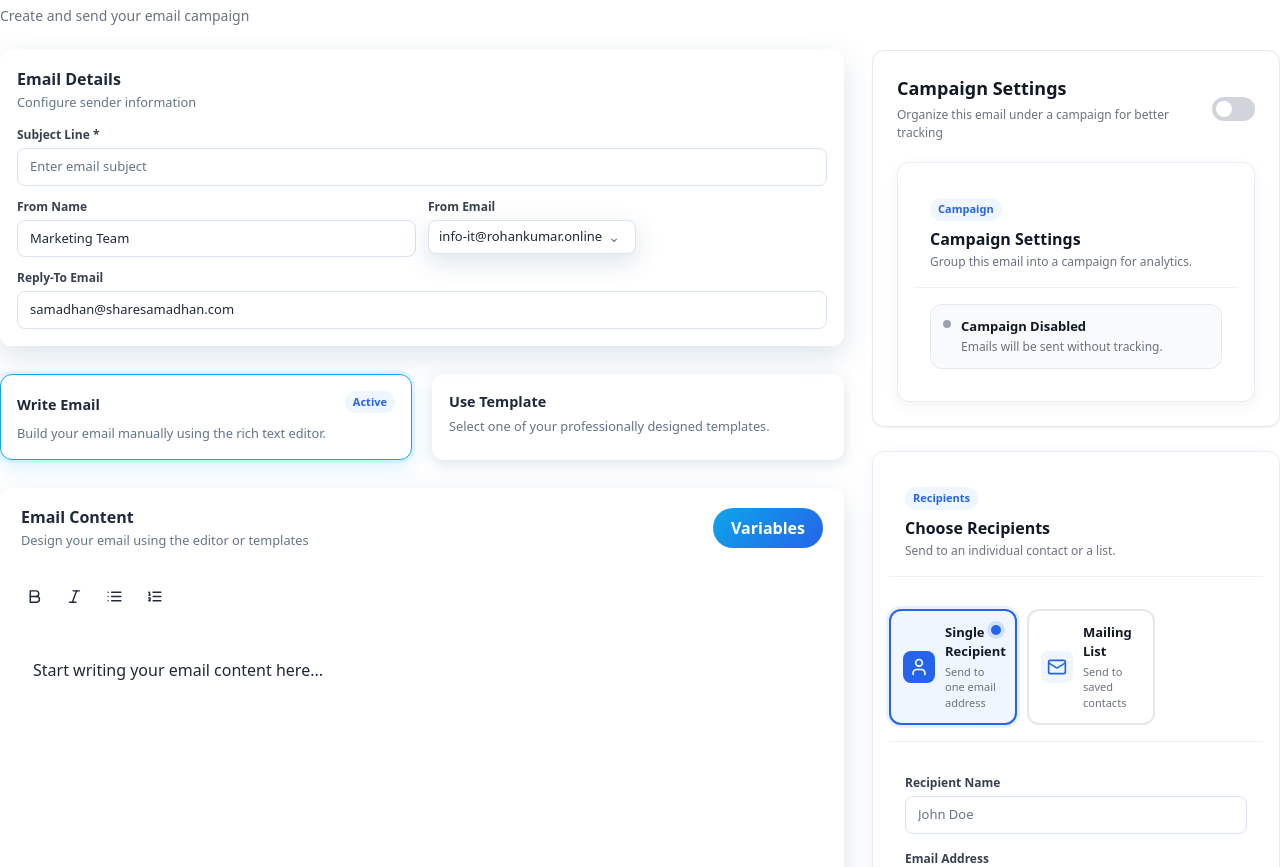
Compose page › validates subject is required on submit
# Ensure empty
Clear the field with placeholder "Enter email subject" at (422, 167), box [17,148,827,186]
(page scrolled)
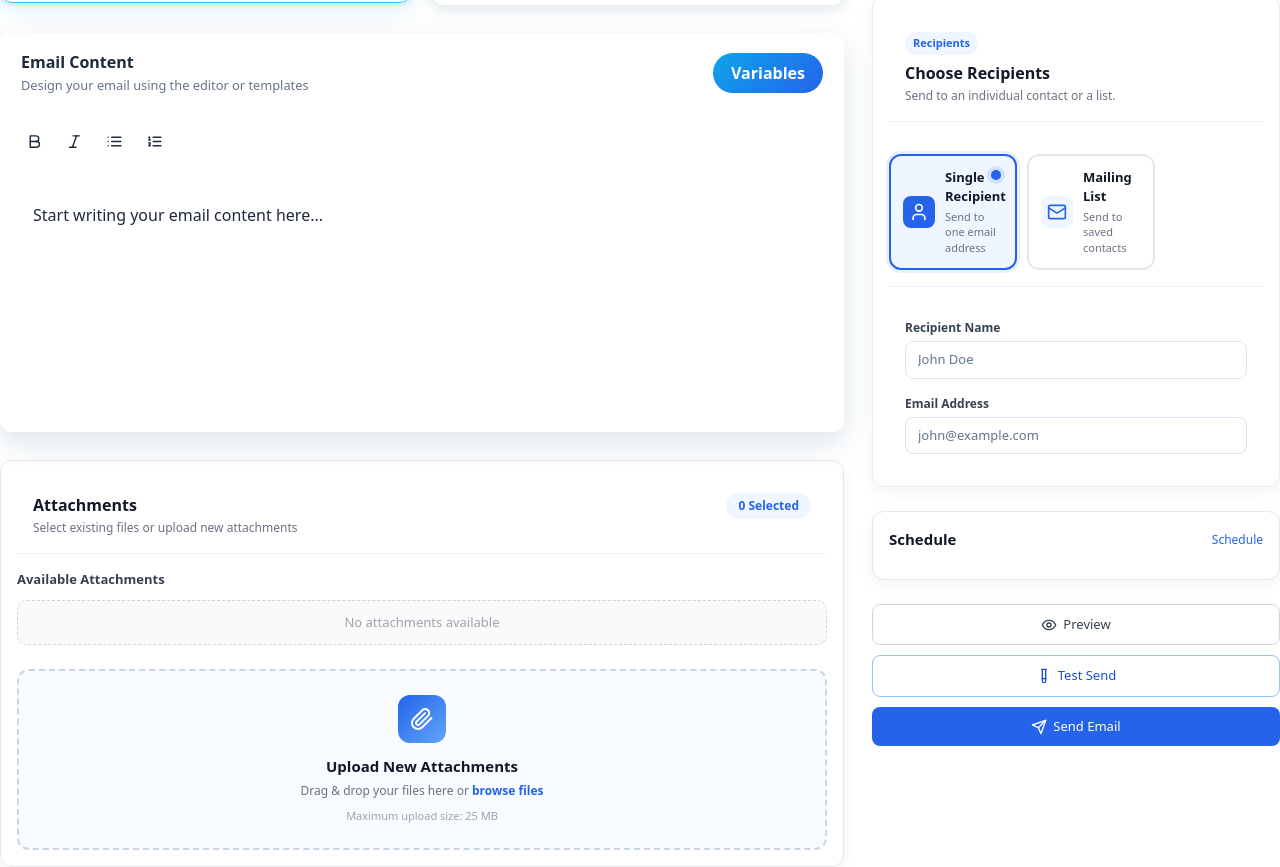
Click the button "Send Email".
click(1076, 727)  # box [872,707,1279,746]
(page scrolled)
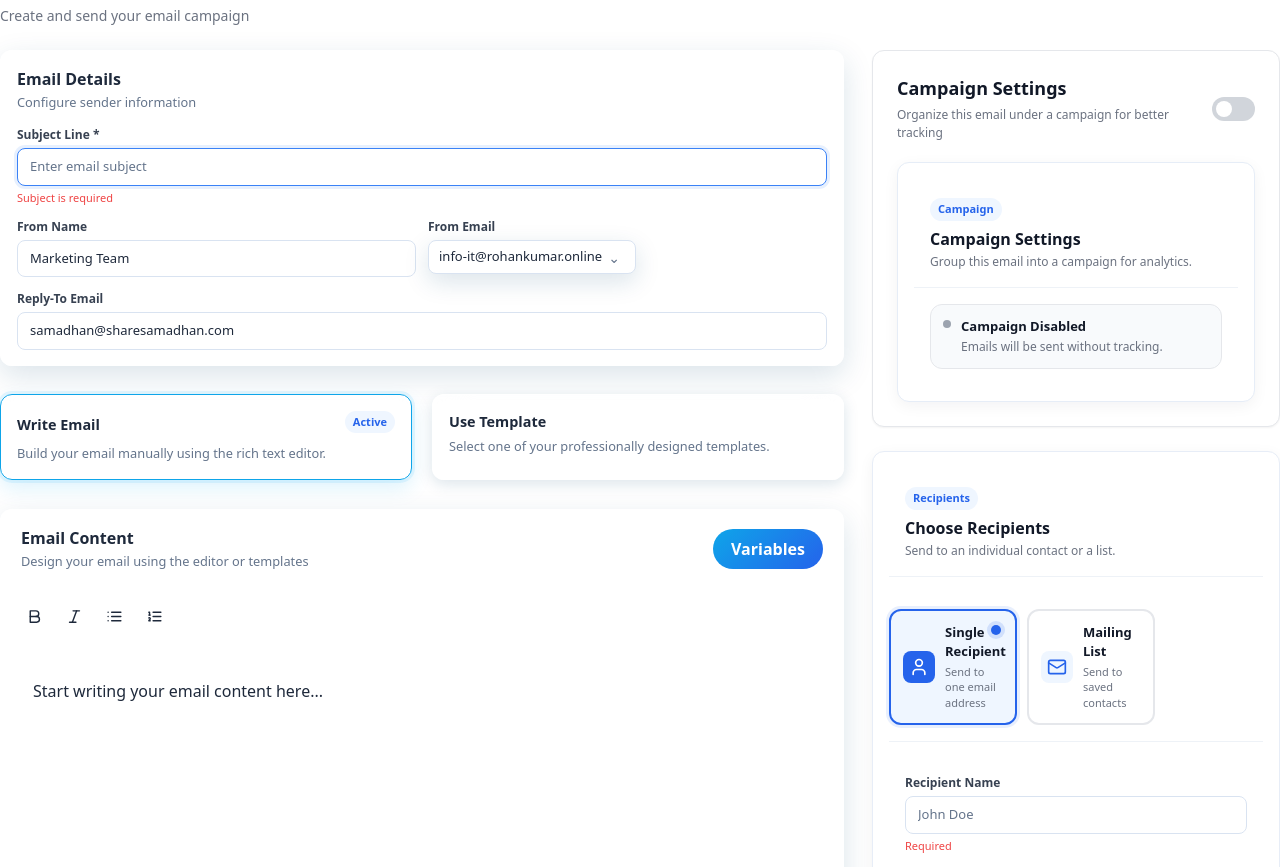
Result: the text "Subject is required" is shown at [17,190,113,205]
